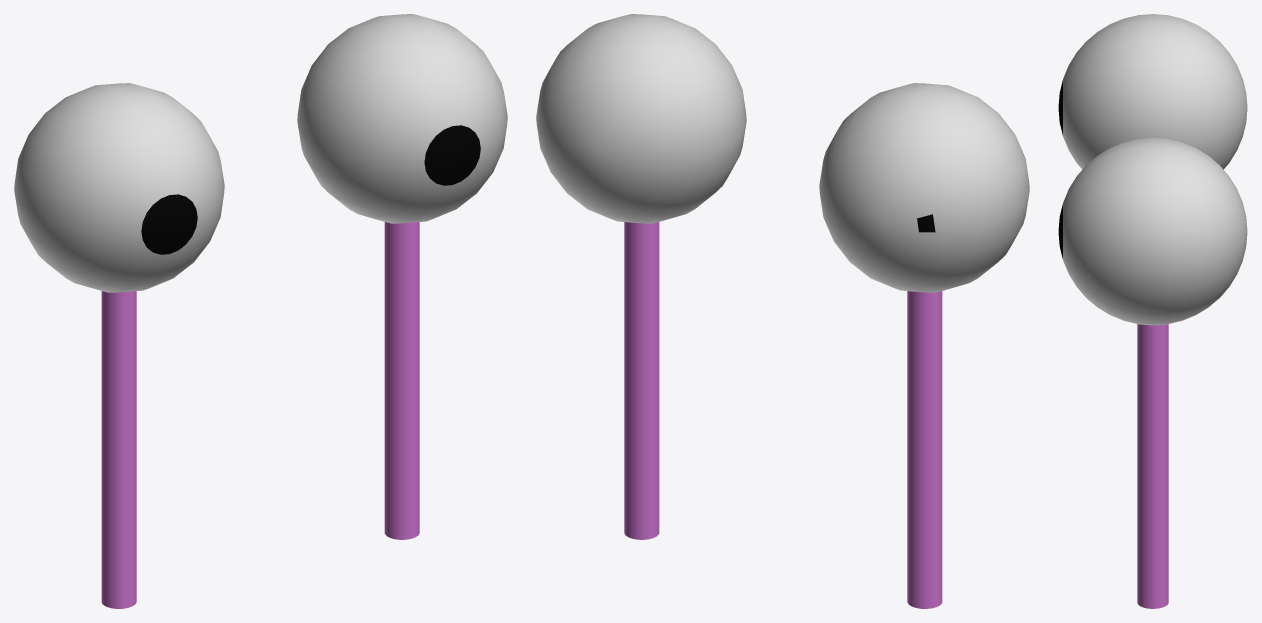
Rendered from alieneyes.fbx.
3 views of the same model, side by side, from view 1: azimuth 30°, elevation 25°; view 2: azimuth 150°, elevation 25°; view 3: azimuth 270°, elevation 25° (orthographic). The views are drawn at different scales.
Visible parts, largest first — view 1: pSphere6; view 2: pSphere6; view 3: pSphere6.
Boxes of the visible parts, box(x1,y1,x2,y2) form: pSphere6: box(14, 14, 507, 608); pSphere6: box(536, 14, 1029, 608); pSphere6: box(1058, 14, 1247, 608).
Size of the model in its own units: 36.25 by 37.87 by 14.21.
